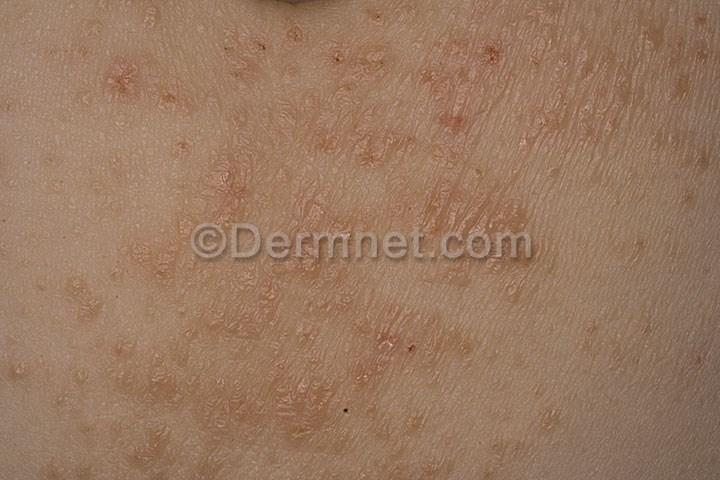Eczema: (339, 0, 720, 227), (15, 266, 283, 480), (94, 1, 337, 228), (293, 266, 542, 480)
